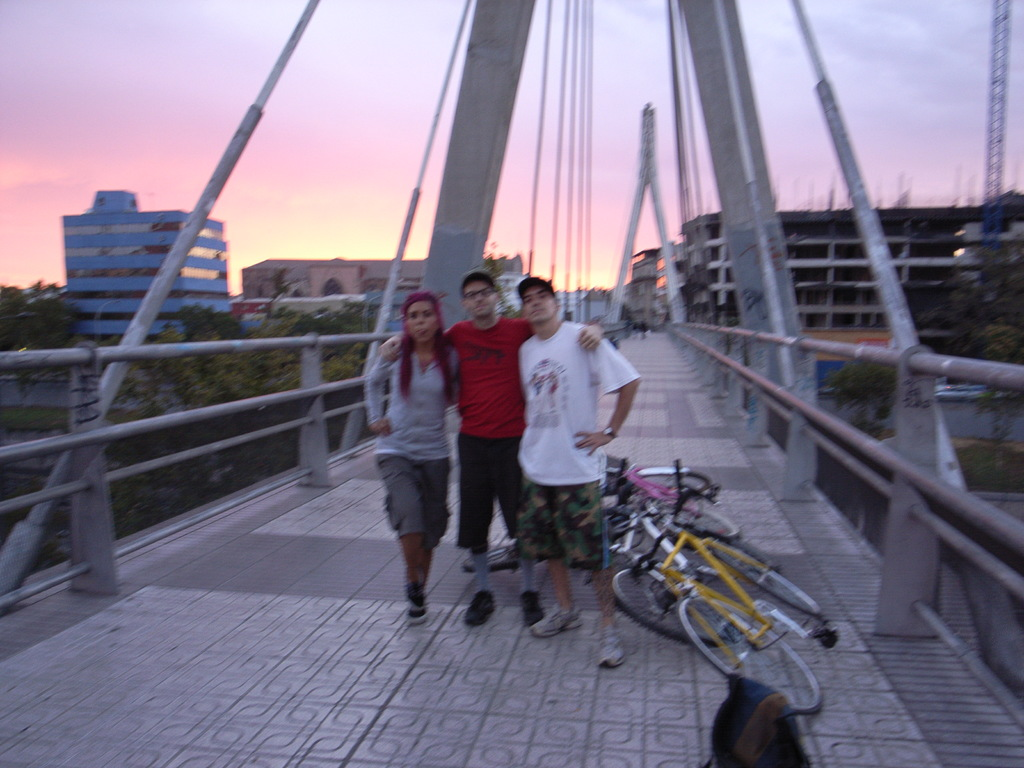bicycle: (631, 516, 837, 712), (608, 457, 775, 646), (458, 464, 638, 576), (601, 454, 737, 540)
